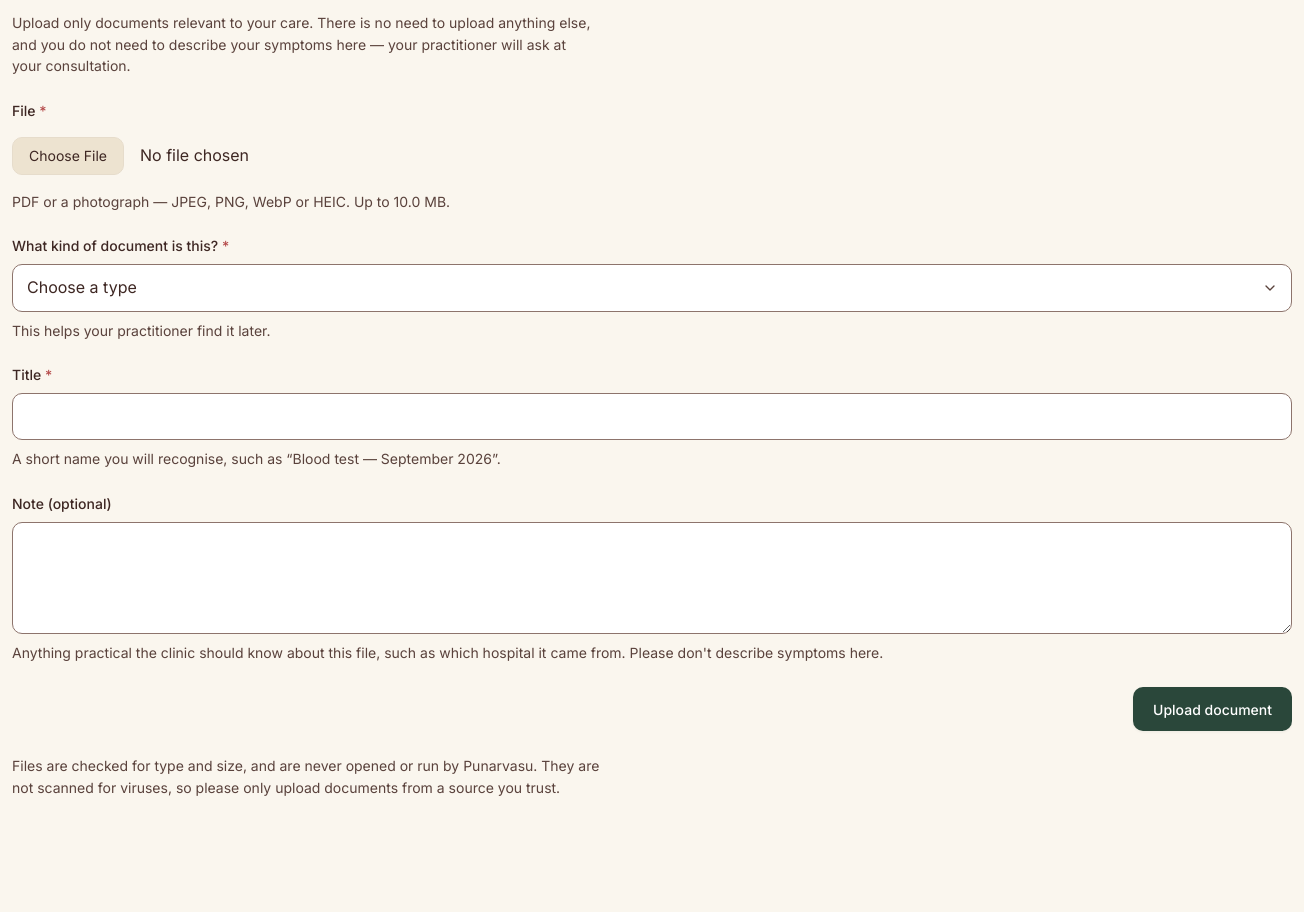
Test case: DocumentUploadForm › shows an error rather than doing nothing when nothing is chosen
Click the button "Upload document" at (1213, 709), box [1133,687,1292,731]
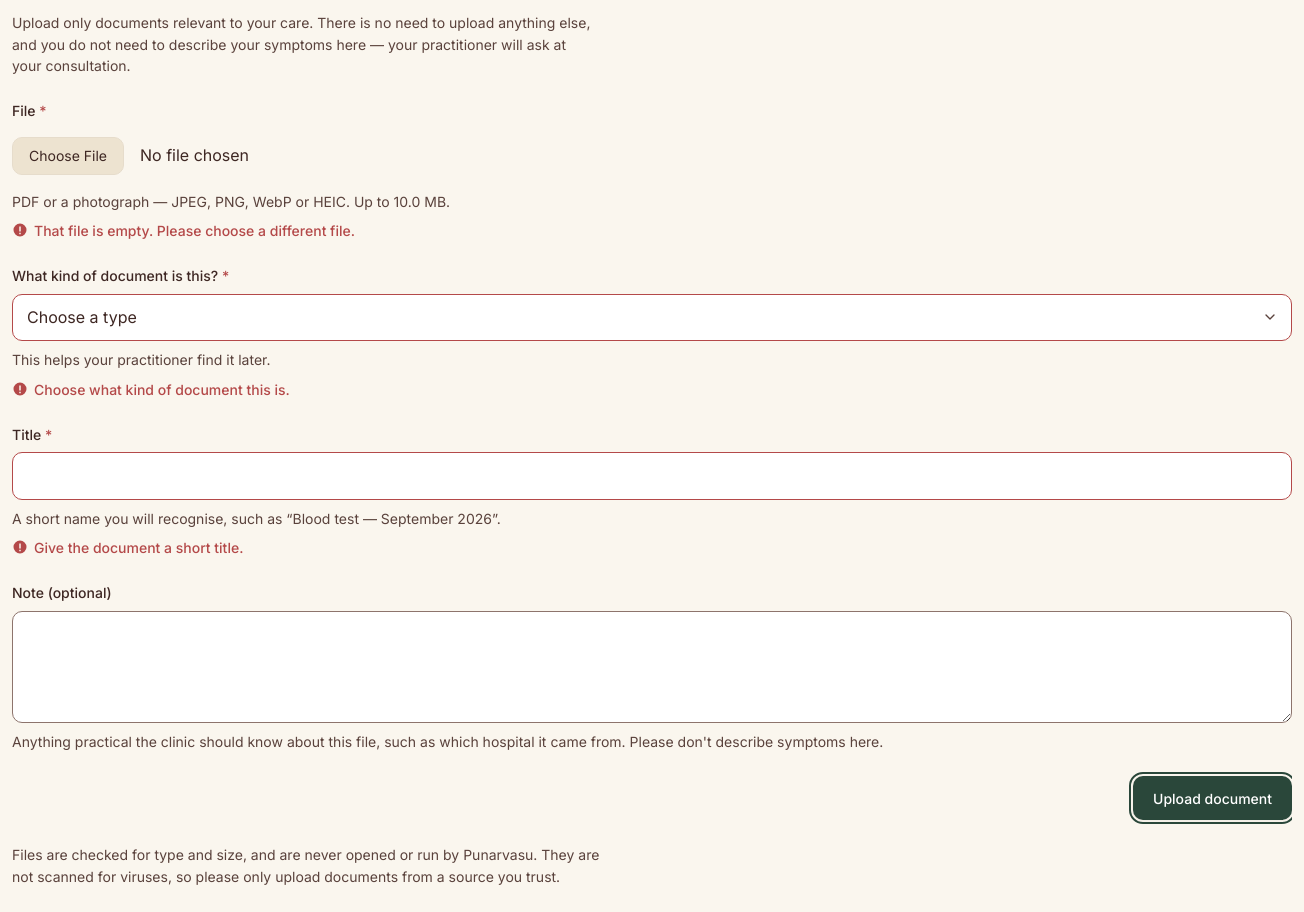
Now the text "That file is empty. Please choose a different file." is shown, box [12,222,355,239]
